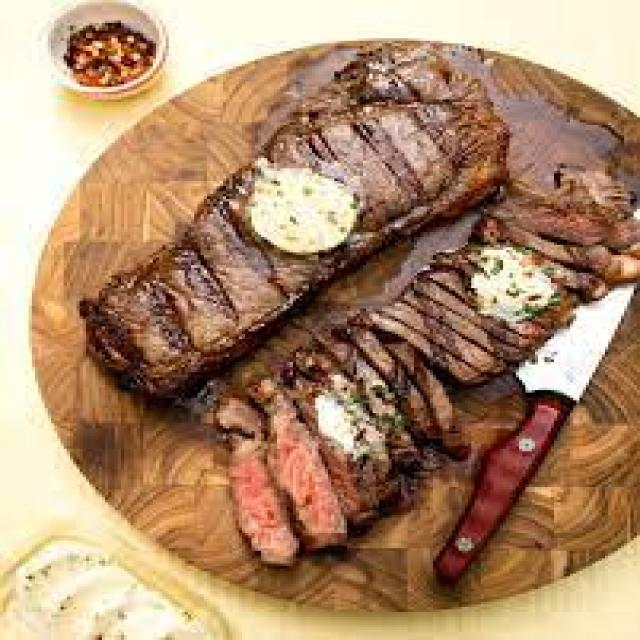Carne: (76, 38, 637, 569)
